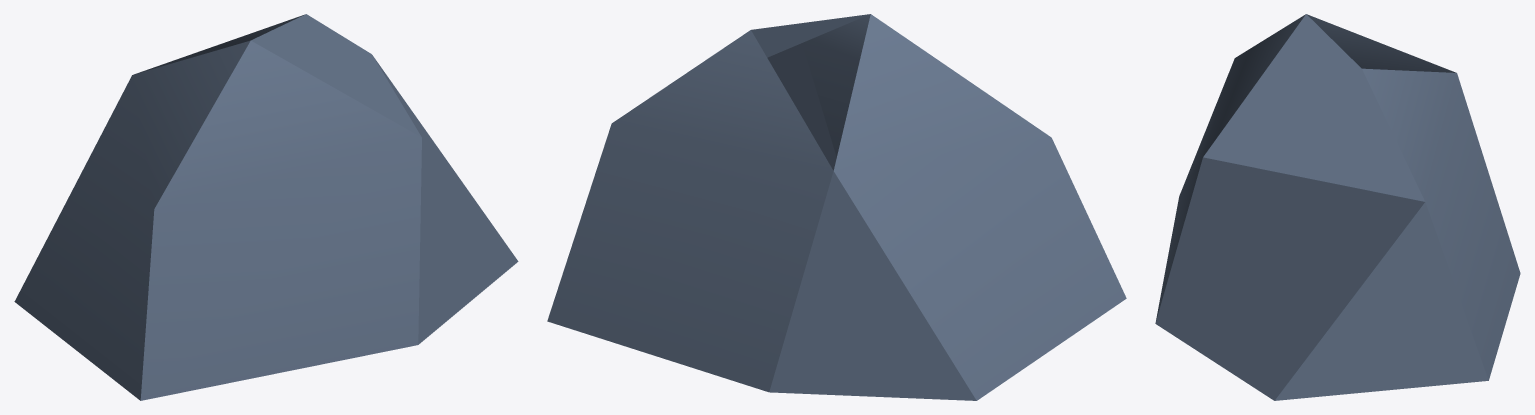
Rendered from rock_boulder.glb.
3 views of the same model, side by side, from view 1: azimuth 30°, elevation 25°; view 2: azimuth 150°, elevation 25°; view 3: azimuth 270°, elevation 25° (orthographic). The views are drawn at different scales.
Parts seen in each view (by area): view 1: Rock_Mountain_Boulder; view 2: Rock_Mountain_Boulder; view 3: Rock_Mountain_Boulder.
Boxes of the visible parts, x1,y1,x2,y2 form: Rock_Mountain_Boulder: [14, 14, 518, 400]; Rock_Mountain_Boulder: [547, 14, 1126, 400]; Rock_Mountain_Boulder: [1155, 14, 1520, 400].
Size of the model in its own units: 3.05 by 1.85 by 2.3.
